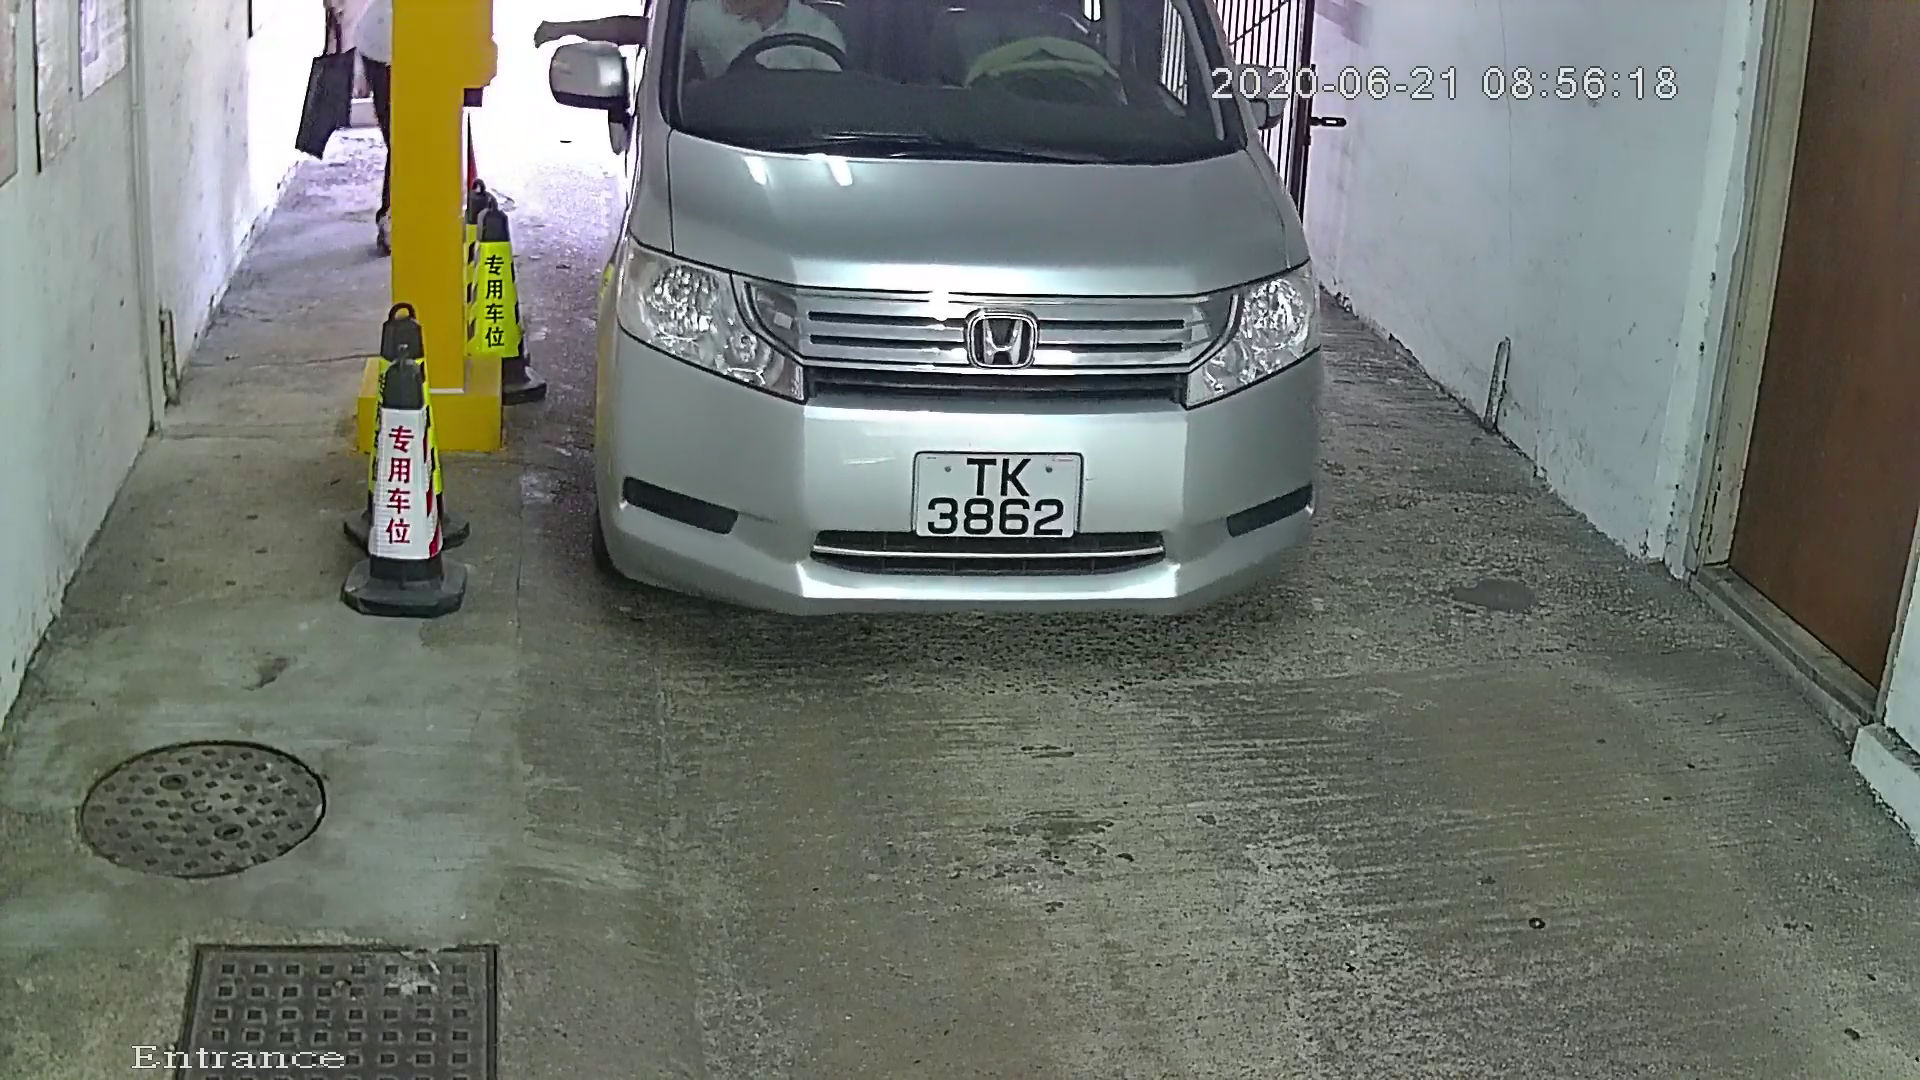privatecar: (529, 3, 1370, 661)
